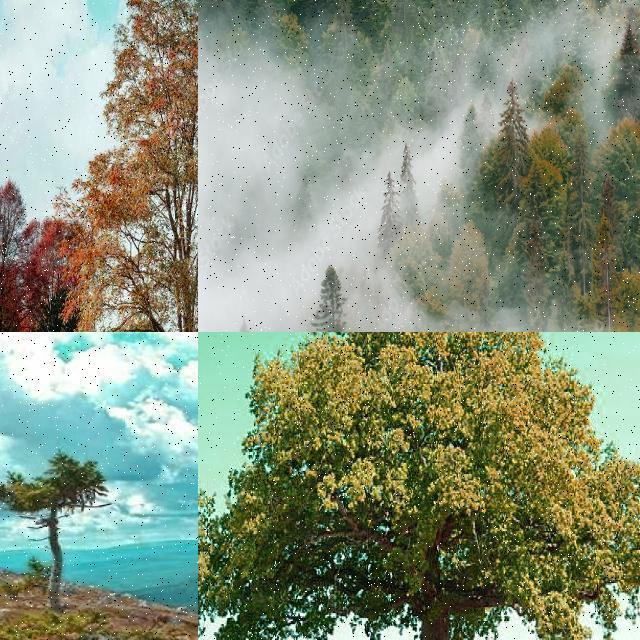tree: (198, 332, 640, 640), (74, 0, 198, 332), (477, 70, 577, 332), (0, 458, 114, 586), (594, 106, 640, 318), (25, 212, 91, 332), (0, 165, 34, 332), (447, 220, 497, 324), (304, 256, 364, 332), (607, 16, 640, 119), (387, 73, 425, 139), (396, 142, 419, 230), (378, 172, 406, 244), (348, 0, 388, 44), (414, 1, 448, 52), (460, 106, 484, 178), (488, 0, 518, 48), (522, 1, 560, 36)
